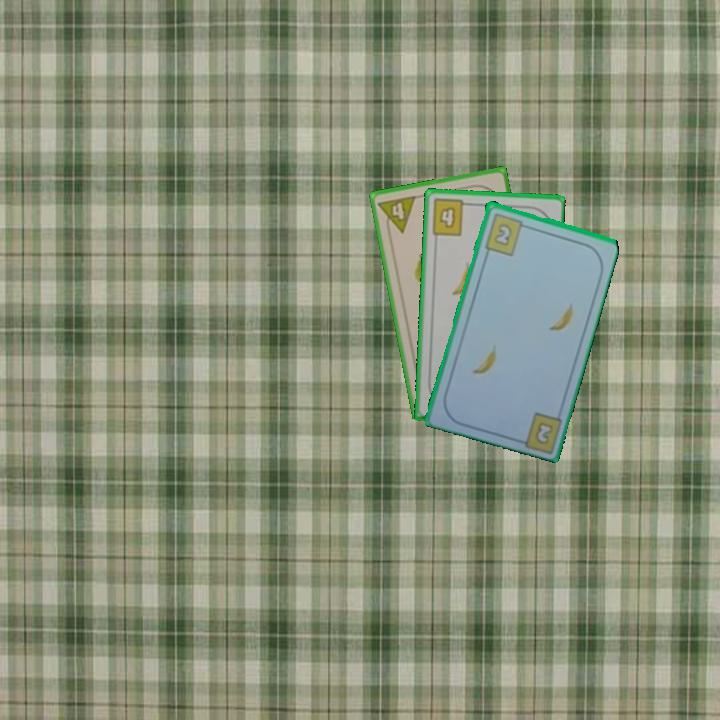2b: (481, 209, 531, 258), (531, 418, 556, 447)
4b: (428, 195, 473, 239)
4p: (375, 192, 419, 238)
